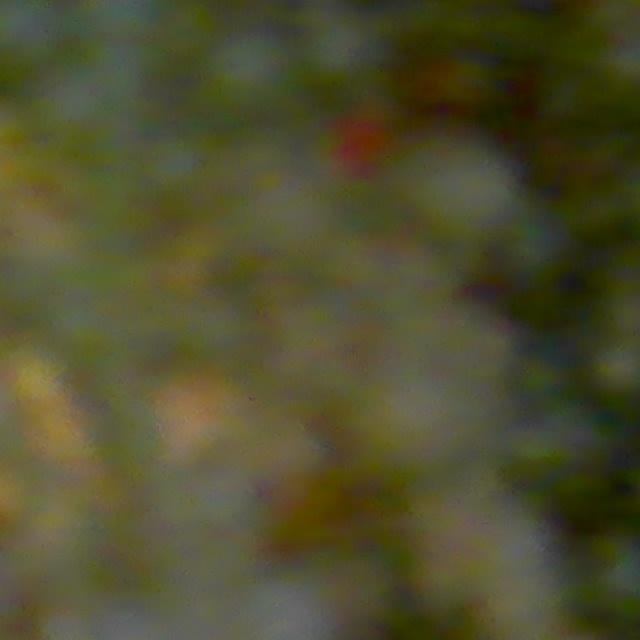SeaGrape: (403, 125, 525, 245), (209, 27, 294, 112), (300, 7, 386, 85), (178, 446, 269, 515), (588, 536, 640, 622)
